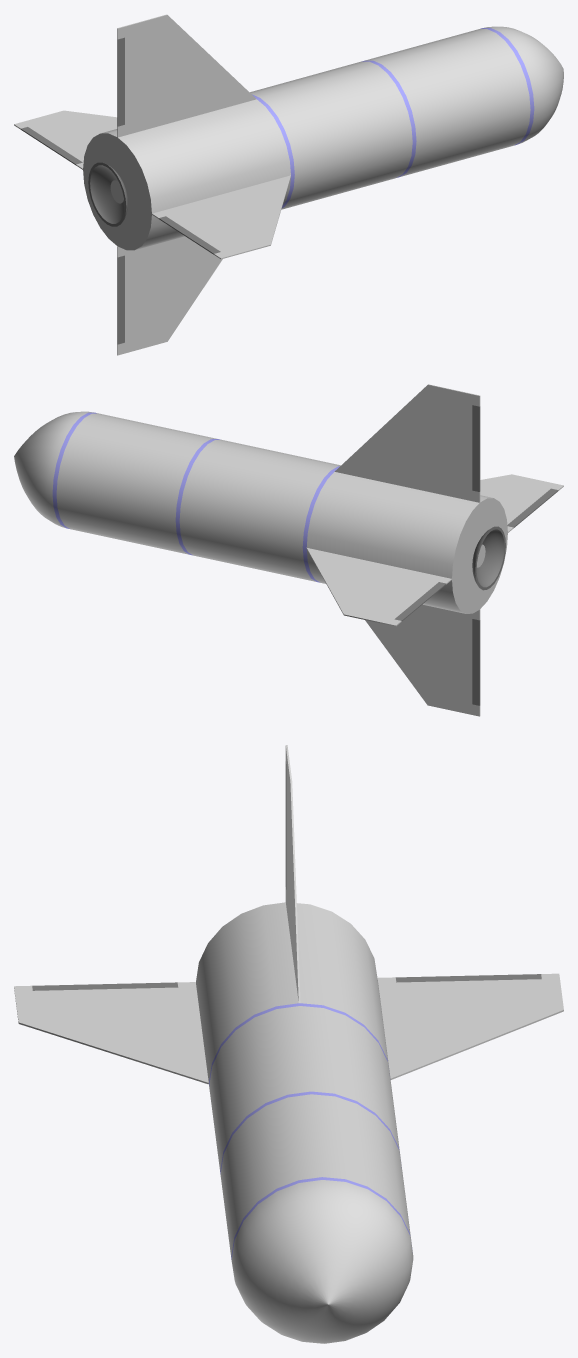
File: bom.glb
3 renders of one model, top to bottom at view 1: azimuth 30°, elevation 25°; view 2: azimuth 150°, elevation 25°; view 3: azimuth 270°, elevation 25°, orthographic. The views are drawn at different scales.
Parts seen in each view (by area): view 1: Material2.001; view 2: Material2.001; view 3: Material2.001.
Part boxes in pixels (box(x1,y1,x2,y2)): Material2.001: box(14, 14, 563, 355); Material2.001: box(14, 384, 563, 716); Material2.001: box(14, 745, 563, 1343).
Size of the model in its own units: 1.65 by 1.09 by 1.15.
